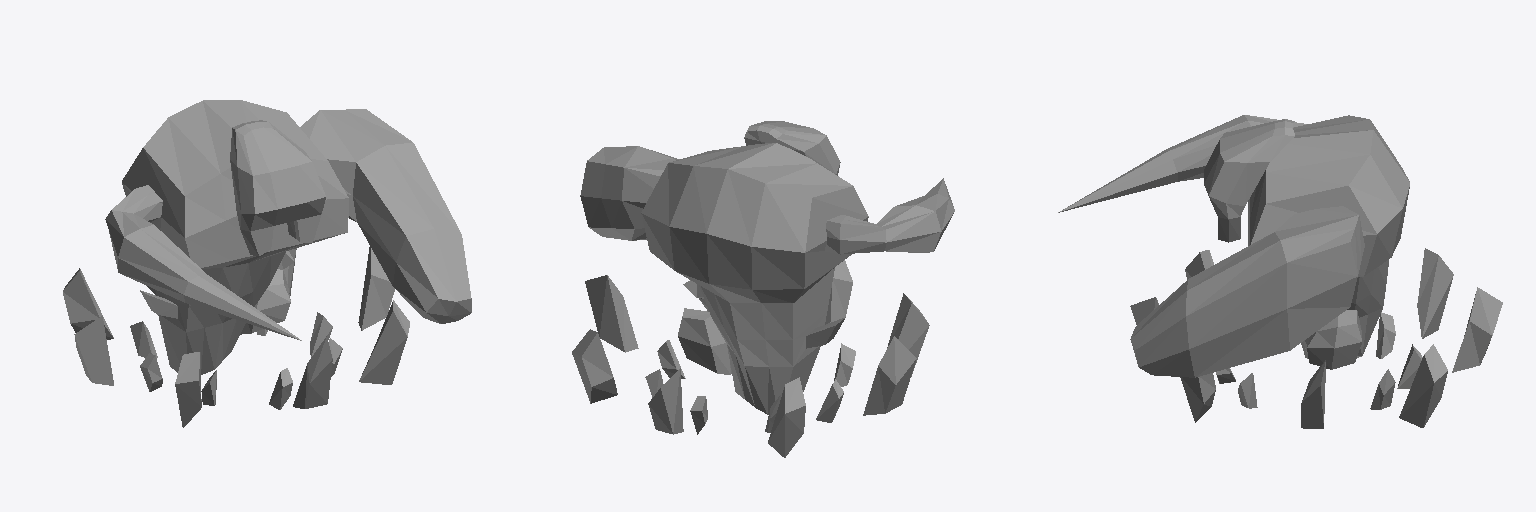
Rendered from geonach.obj.
3 views of the same model, side by side, from view 1: azimuth 30°, elevation 25°; view 2: azimuth 150°, elevation 25°; view 3: azimuth 270°, elevation 25° (orthographic).
Visible parts, largest first — view 1: Body, ArmLeft, EffectOuter, Head, ArmRight, EffectInner, Body02; view 2: Body, EffectOuter, ArmLeft, ArmRight, EffectInner, Head, Body02; view 3: ArmLeft, Body, EffectOuter, Head, ArmRight, EffectInner, Body02.
Boxes of the visible parts, <box> form: Body: <box>122,100,348,374</box>; ArmLeft: <box>300,109,471,323</box>; EffectOuter: <box>63,246,409,427</box>; Head: <box>230,120,325,255</box>; ArmRight: <box>105,185,301,340</box>; EffectInner: <box>130,312,342,409</box>; Body02: <box>240,269,290,334</box>; Body: <box>641,143,868,414</box>; EffectOuter: <box>572,260,929,457</box>; ArmLeft: <box>580,146,679,240</box>; ArmRight: <box>825,178,954,254</box>; EffectInner: <box>645,340,855,434</box>; Head: <box>744,121,840,175</box>; Body02: <box>678,308,731,374</box>; ArmLeft: <box>1130,206,1364,377</box>; Body: <box>1248,115,1409,358</box>; EffectOuter: <box>1130,248,1502,428</box>; Head: <box>1204,119,1294,242</box>; ArmRight: <box>1058,115,1306,212</box>; EffectInner: <box>1216,312,1422,409</box>; Body02: <box>1307,310,1361,369</box>.
Size of the model in its own units: 2.5 by 1.9 by 2.93.